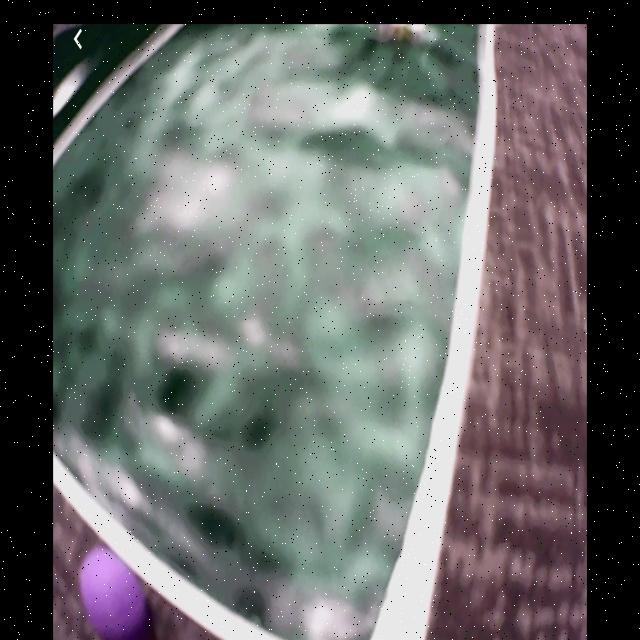ball: (77, 544, 152, 639)
